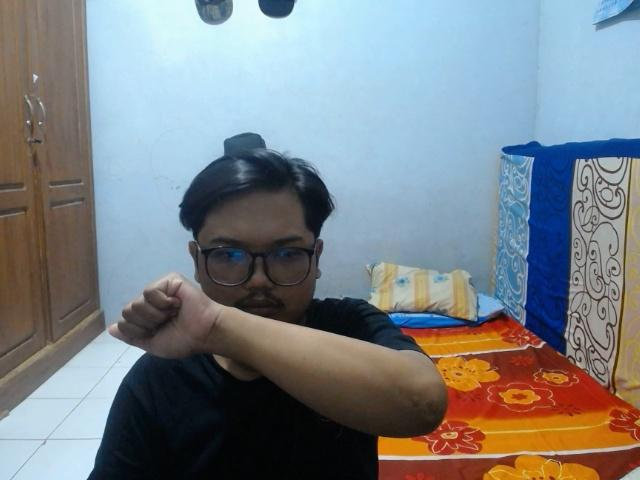Grab: (104, 268, 220, 362)
